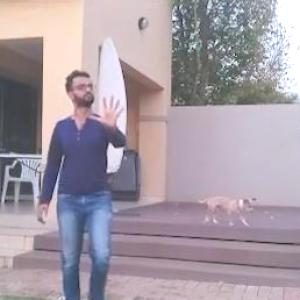follow_hand: (90, 90, 132, 132)
